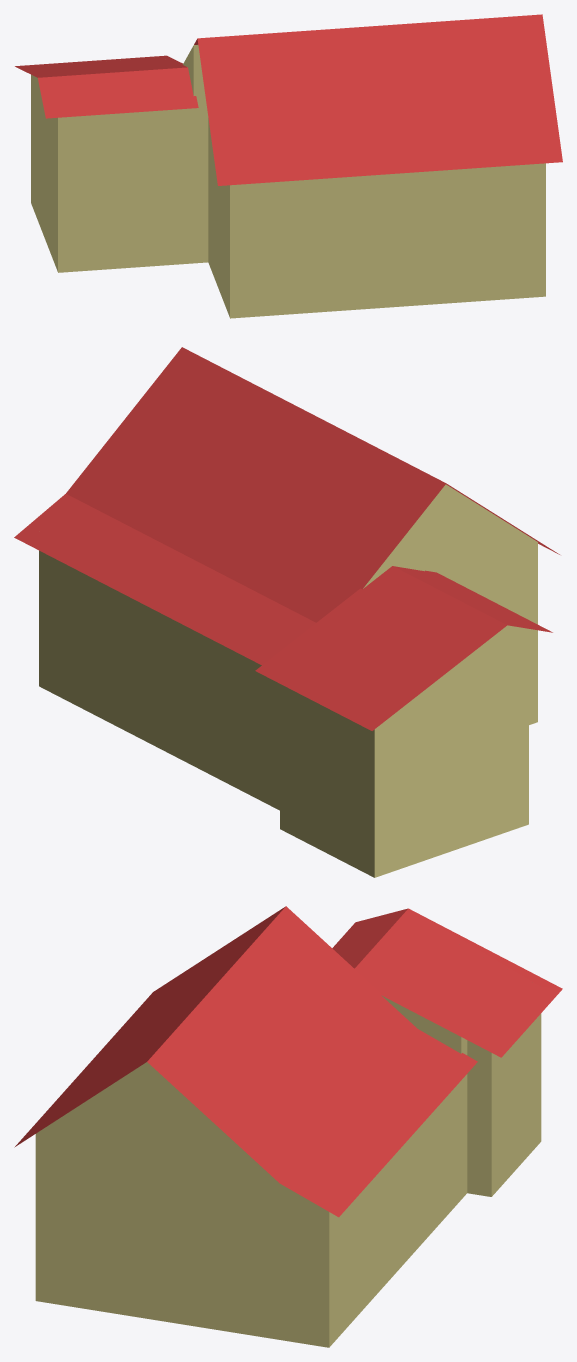
3 views of the same model, one above another, from view 1: azimuth 30°, elevation 25°; view 2: azimuth 150°, elevation 25°; view 3: azimuth 270°, elevation 25° (orthographic). The views are drawn at different scales.
Size of the model in its own units: 26.86 by 24.66 by 13.11.
